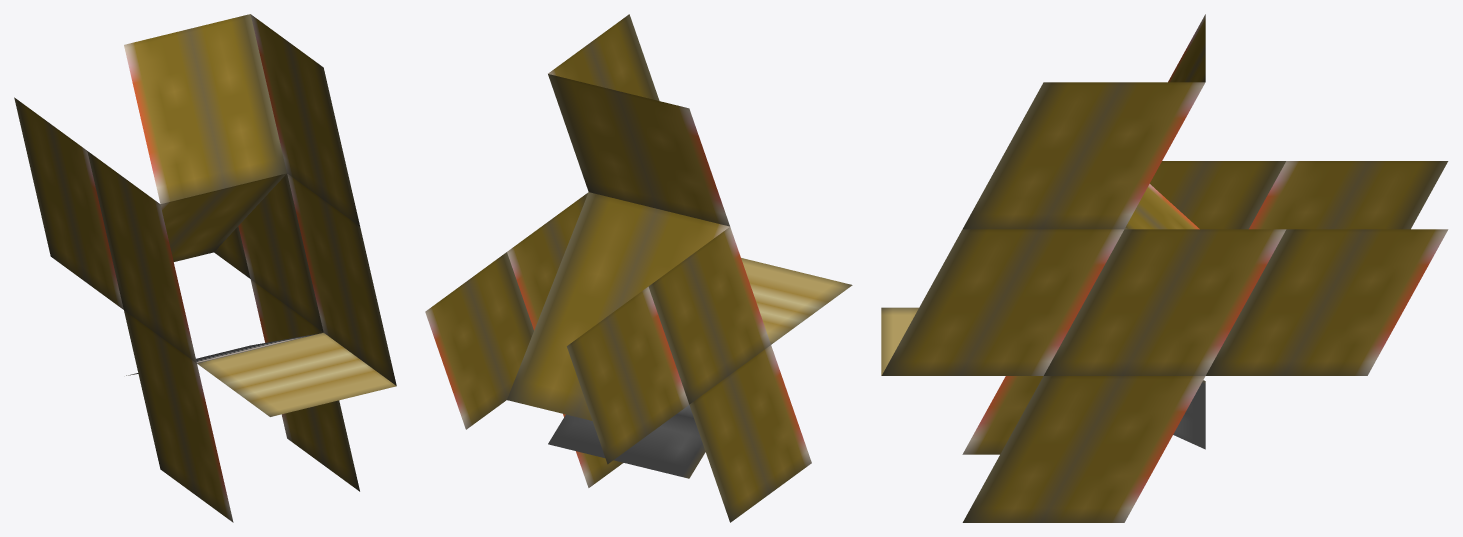
Rendered from tile_indoors_wall_4.obj.
3 views of the same model, side by side, from view 1: azimuth 30°, elevation 25°; view 2: azimuth 150°, elevation 25°; view 3: azimuth 270°, elevation 25° (orthographic). The views are drawn at different scales.
Parts seen in each view (by area): view 1: Default; view 2: Default; view 3: Default.
Boxes of the visible parts, x1,y1,x2,y2 form: Default: [14, 14, 396, 522]; Default: [425, 14, 852, 522]; Default: [881, 14, 1448, 522].
Bounding box in the file's own units: 1 × 3 × 3.5.
1 material, 1 textured.
